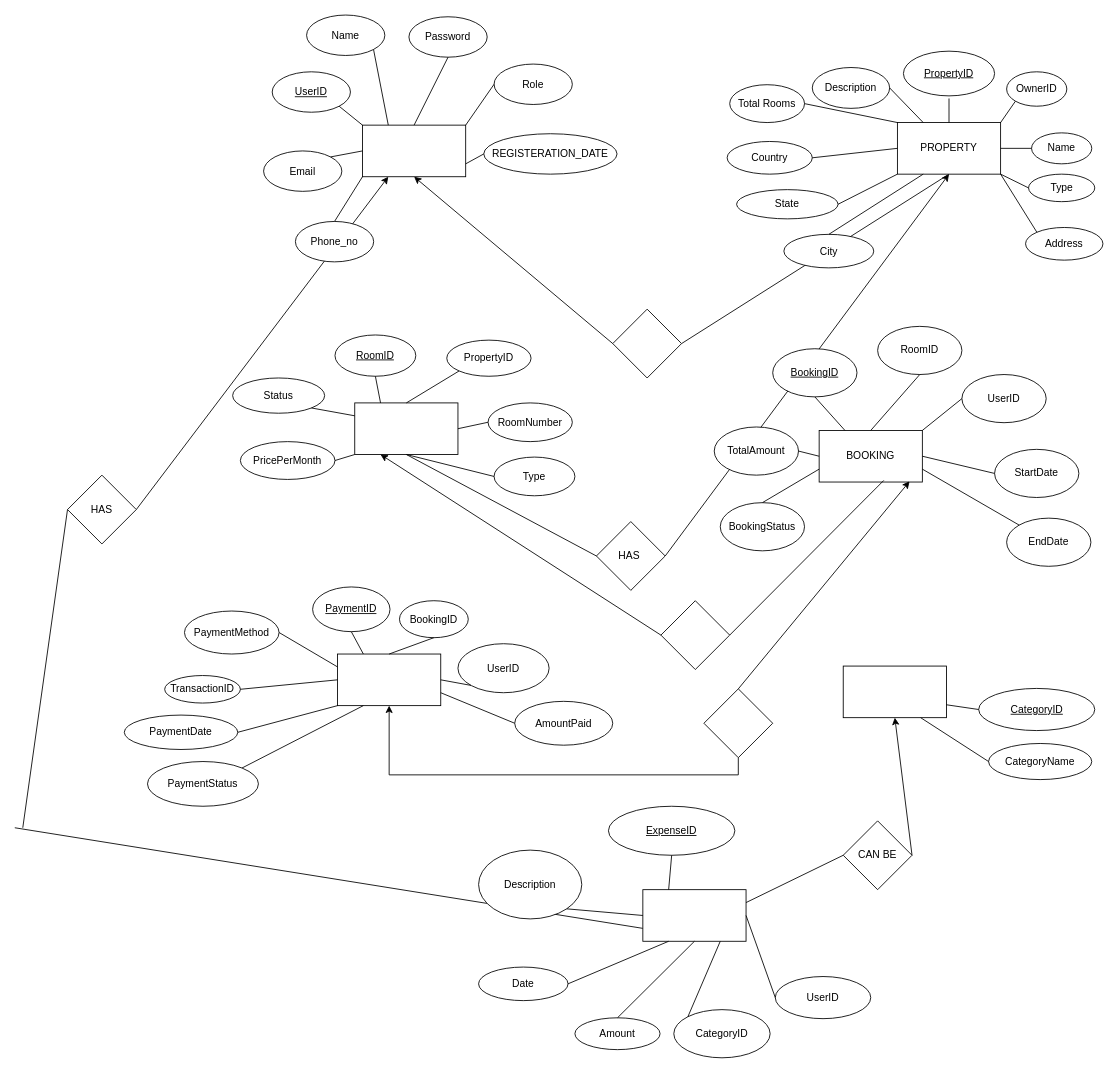
Image size: 1119x1073. Some labels were removed from this diagram. Here are the shapes that lost their labels. From the top down, the centre of each, then its label:
pixel 414 150: USER
pixel 647 343: BUYS
pixel 406 428: ROOM
pixel 695 635: CAN HAVE
pixel 389 679: PAYMENT
pixel 894 691: EXPENSE CATEGORY
pixel 738 723: HAVE
pixel 694 915: EXPENSE
